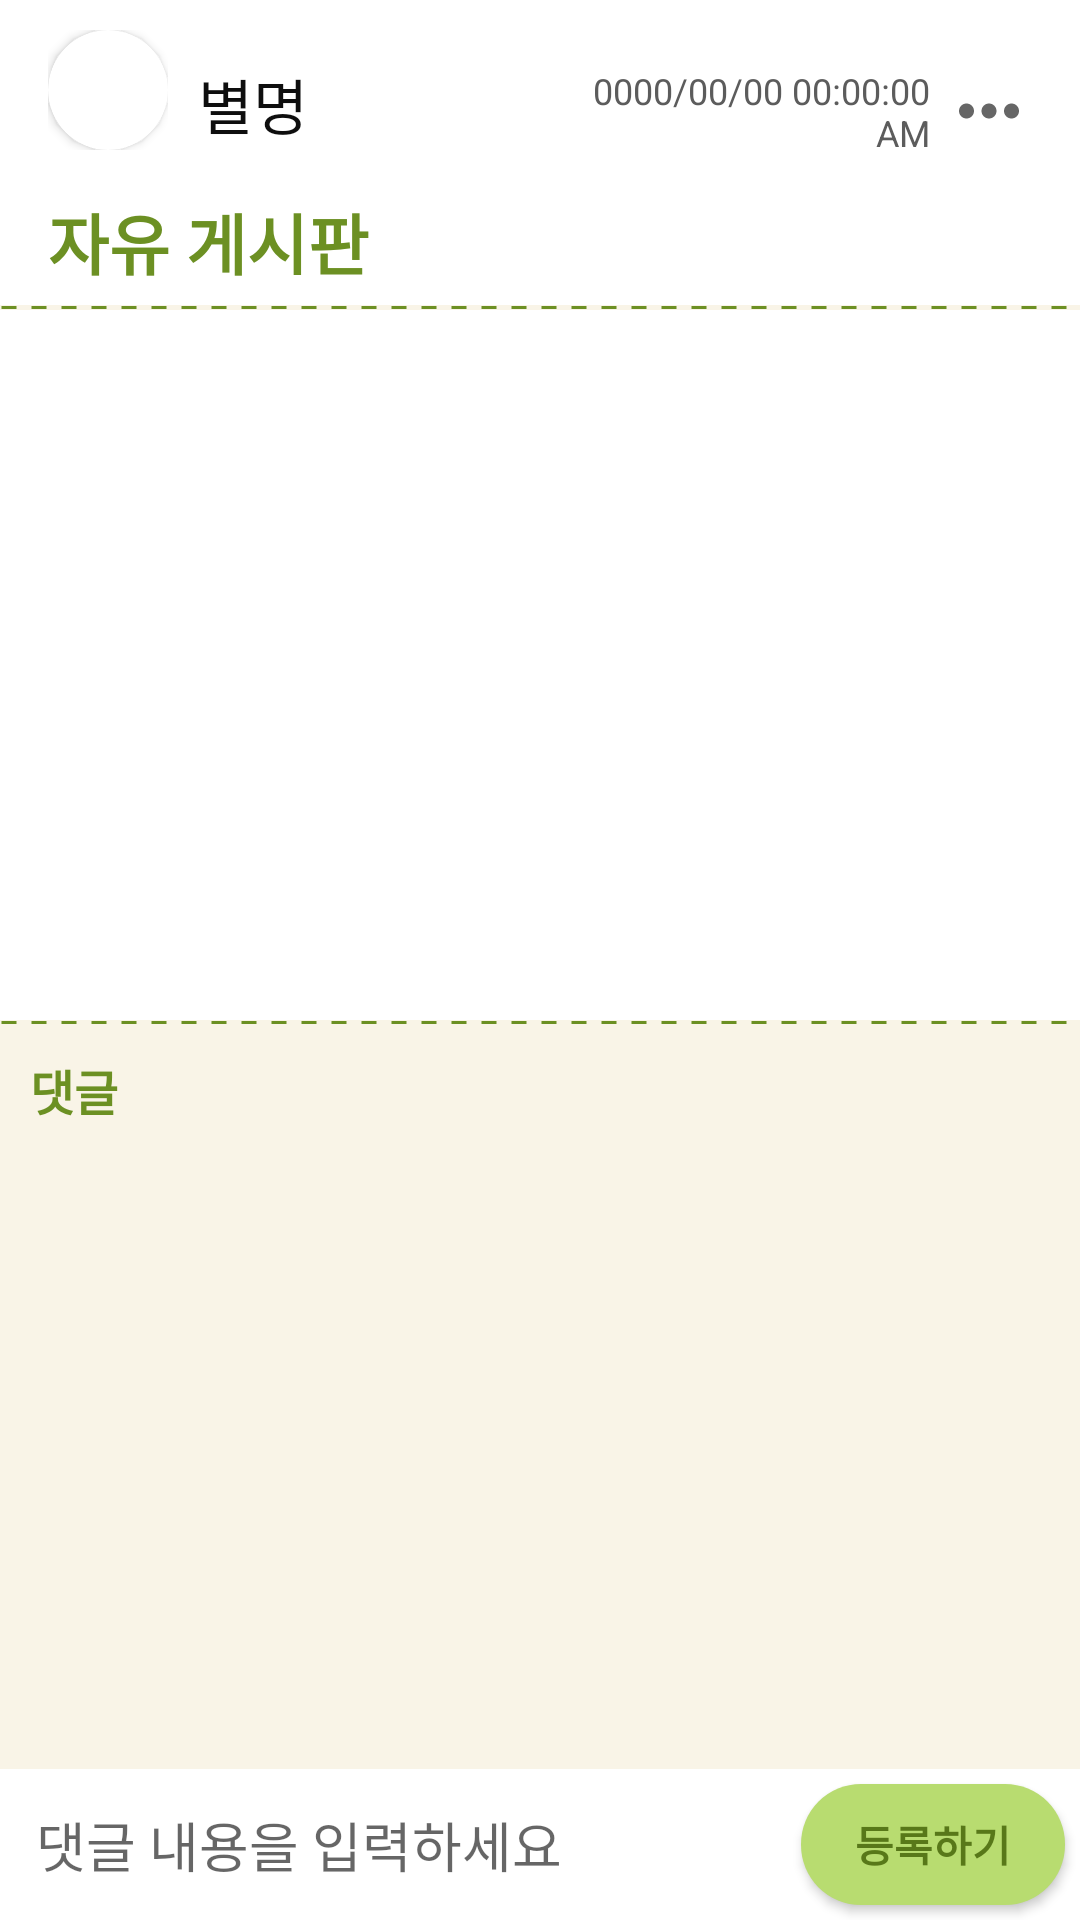

Where to tap for icons on this 1080 × 1920 app screen, as (x,y):
more: (989,111)
